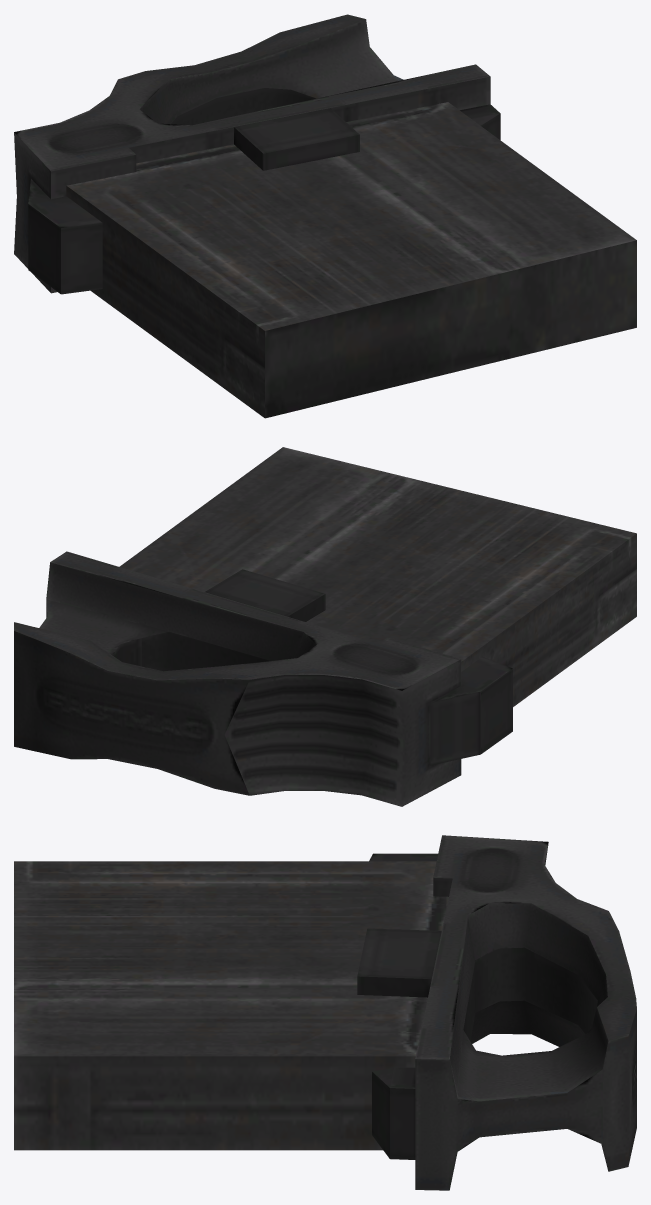
Rendered from t6_attach_fastmag_xpr50_world_LOD1.obj.
3 views of the same model, one above another, from view 1: azimuth 30°, elevation 25°; view 2: azimuth 150°, elevation 25°; view 3: azimuth 270°, elevation 25° (orthographic). The views are drawn at different scales.
Visible parts, largest first — view 1: mtl_t6_wpn_sniper_xpr50, mtl_t6_attach_sniper_fastmag; view 2: mtl_t6_attach_sniper_fastmag, mtl_t6_wpn_sniper_xpr50; view 3: mtl_t6_wpn_sniper_xpr50, mtl_t6_attach_sniper_fastmag.
Boxes of the visible parts, x1,y1,x2,y2 form: mtl_t6_wpn_sniper_xpr50: (66, 102, 636, 418); mtl_t6_attach_sniper_fastmag: (14, 14, 500, 294); mtl_t6_attach_sniper_fastmag: (14, 551, 512, 806); mtl_t6_wpn_sniper_xpr50: (119, 447, 636, 706); mtl_t6_wpn_sniper_xpr50: (14, 861, 448, 1150); mtl_t6_attach_sniper_fastmag: (357, 835, 636, 1190).
Bounding box in the file's own units: 13.91 × 3.59 × 15.5.
